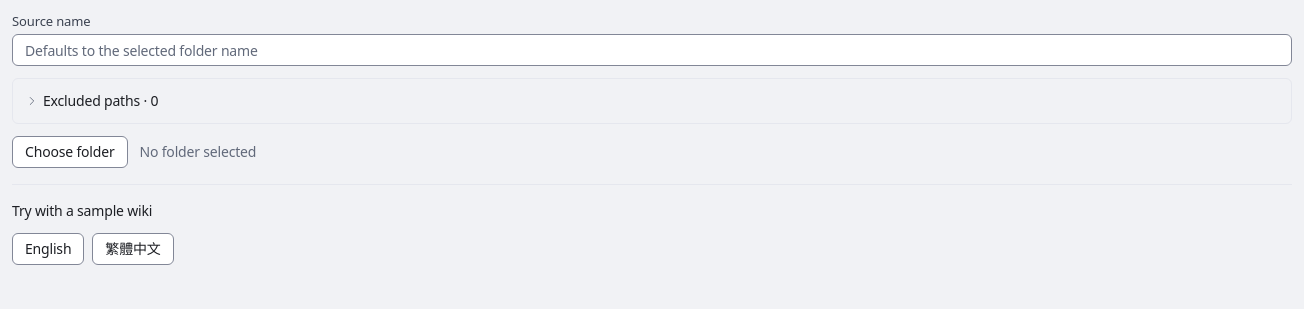
Scenario: Try with a sample wiki › shows an inline alert and starts no import when a file cannot be fetched
The image size is (1304, 309).
Step 1. Click the button "English" → [48, 249], box [12,233,84,265]
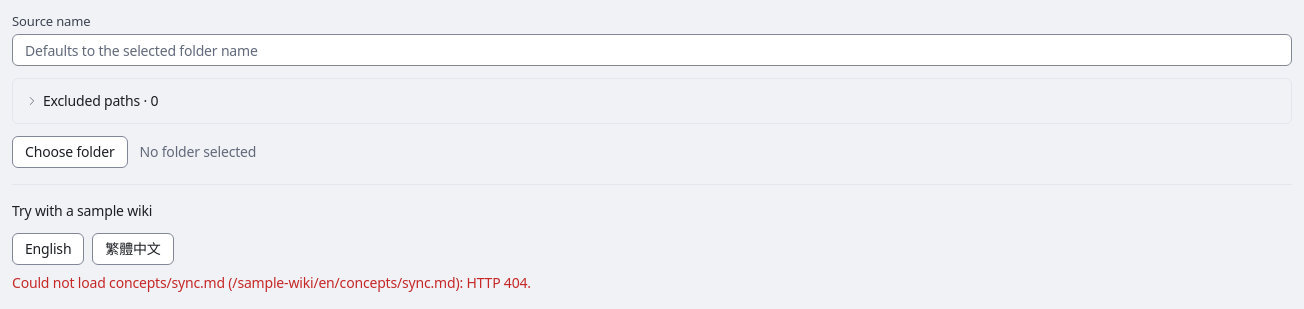
Expected: the message "Could not load concepts/sync.md (/sample-wiki/en/concepts/sync.md): HTTP 404." is shown, [12,273,531,292]
